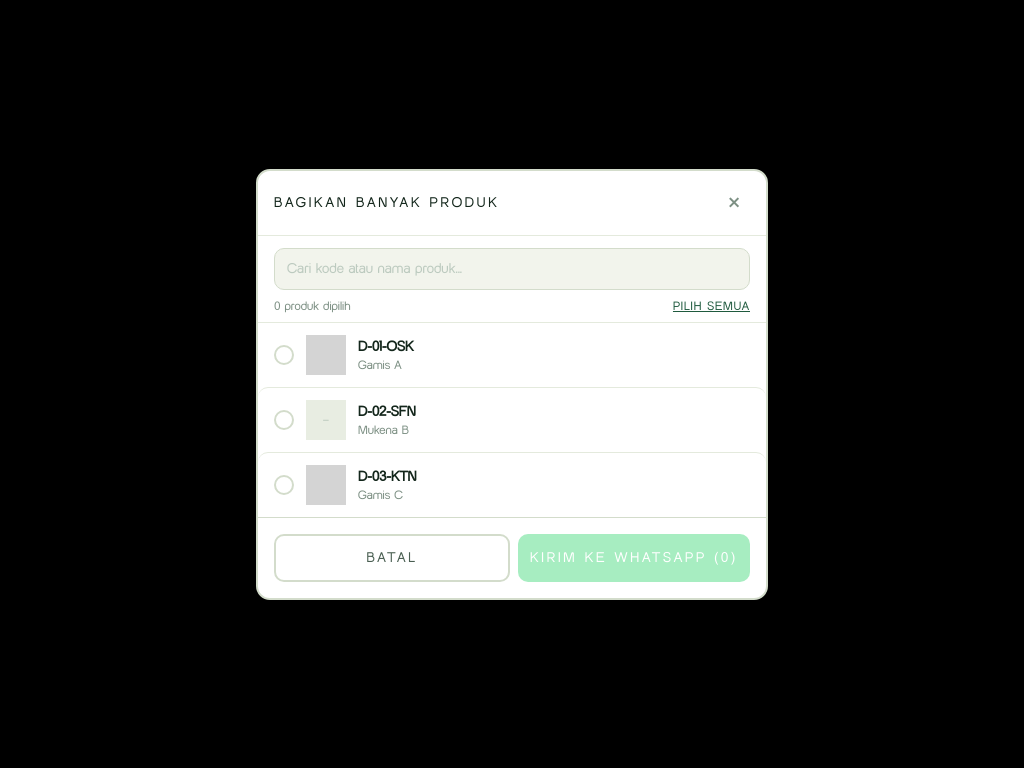
Test case: BulkShareModal › klik satu produk menambah pilihan & mengaktifkan tombol kirim
The width and height of the screenshot is (1024, 768).
Click the text "D-01-OSK". click: (386,346)
box: [358,338,413,354]
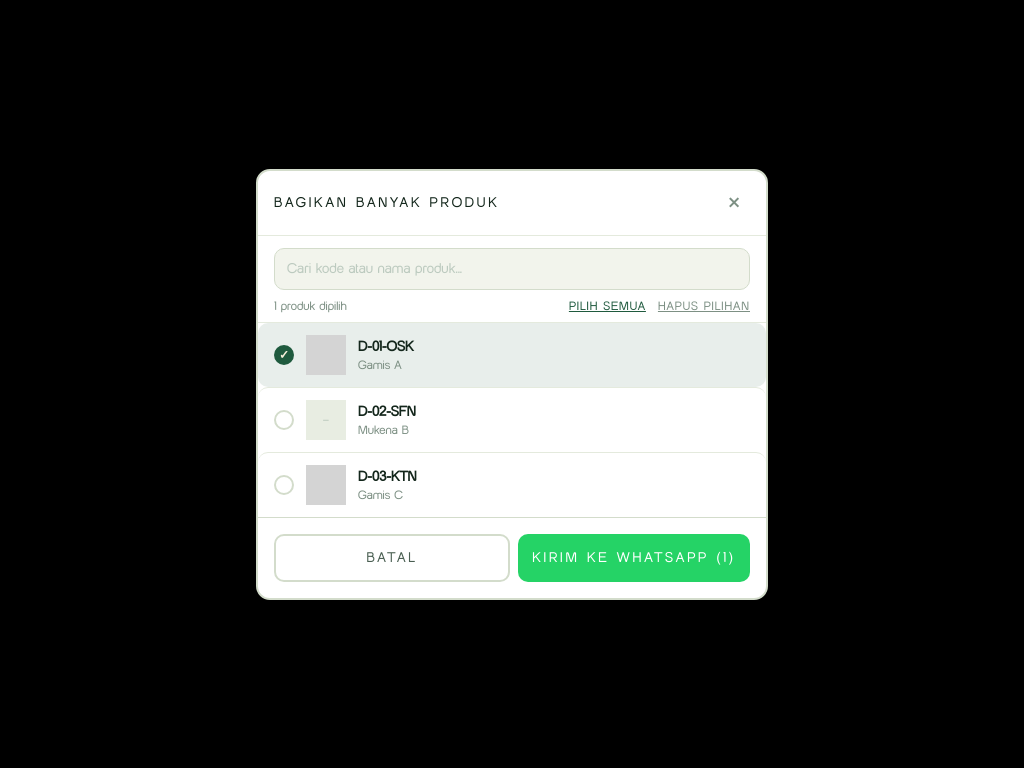
Result: the text "1 produk dipilih" is shown at [274,298,347,314]
Result: the button "Kirim ke WhatsApp (1)" is enabled at [518,534,750,582]
